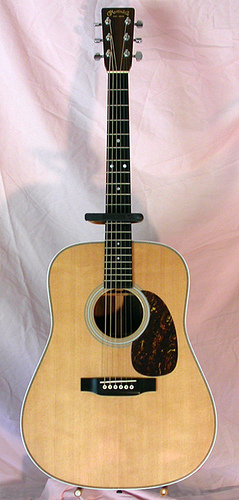guitar: (16, 4, 216, 490)
